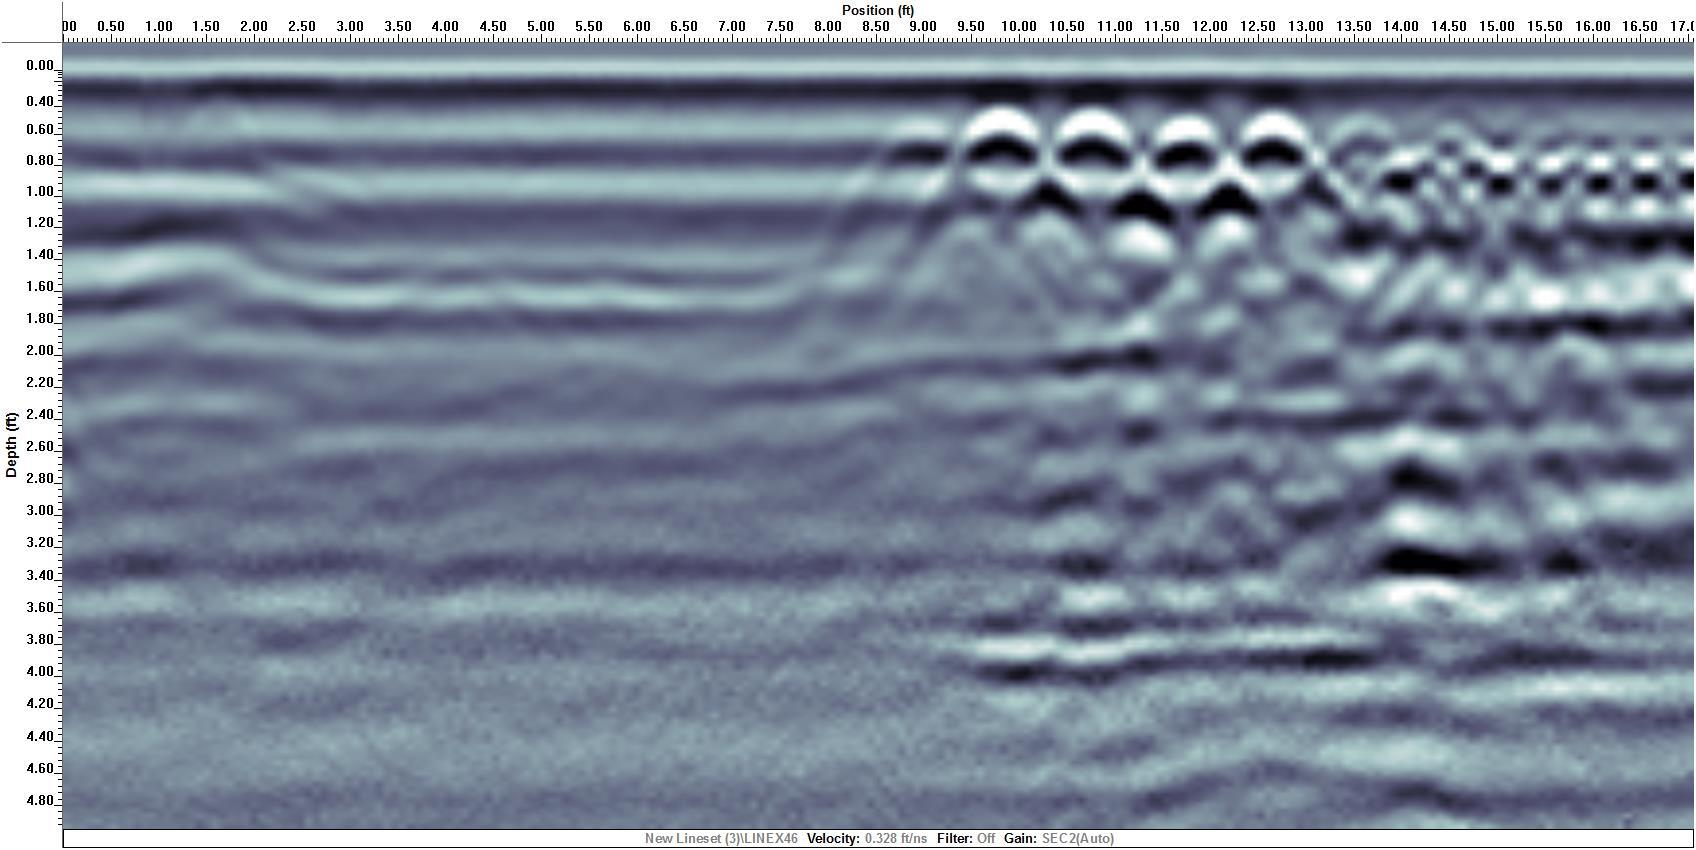hyperbola: (947, 91, 1057, 220), (1039, 96, 1145, 210), (1136, 92, 1229, 202), (1221, 91, 1318, 189)
